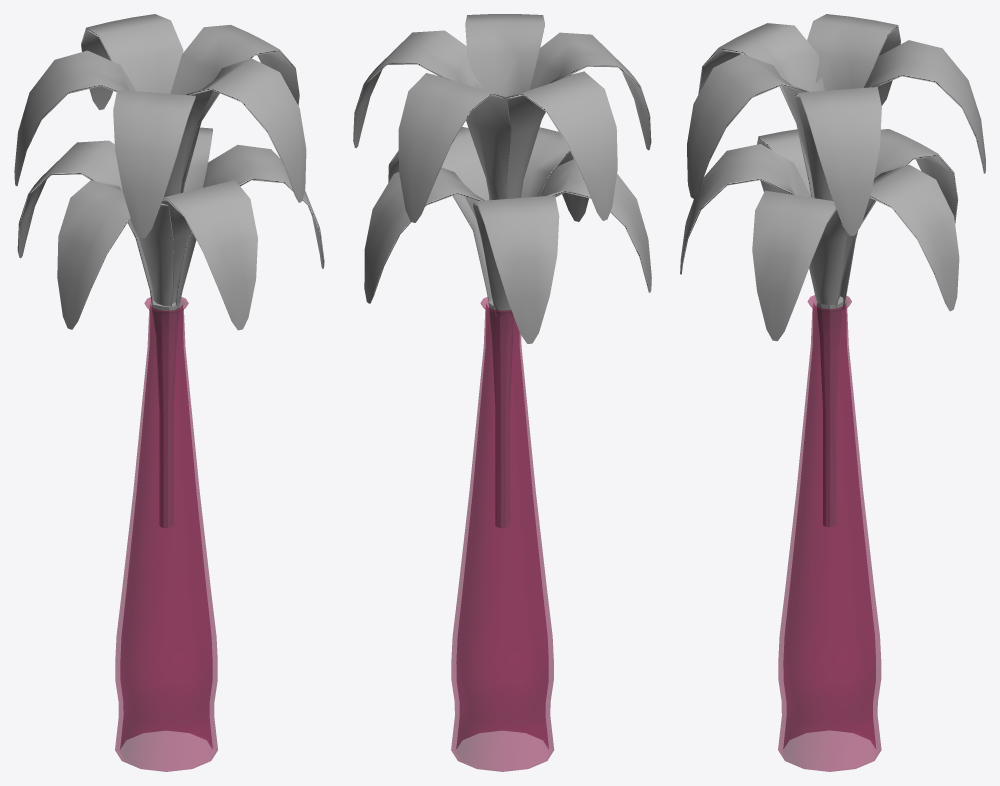
File: JarronActorSecundario.fbx
3 views of the same model, side by side, from view 1: azimuth 30°, elevation 25°; view 2: azimuth 150°, elevation 25°; view 3: azimuth 270°, elevation 25° (orthographic).
Visible parts, largest first — view 1: Jarron, pCube5, polySurface5, pCube2, polySurface2, polySurface4, polySurface3, polySurface6, pCylinder1, pCube3, pCube6, pCube4; view 2: Jarron, polySurface4, polySurface6, pCube6, polySurface2, pCube4, polySurface3, polySurface5, pCylinder1, pCube5, pCube3, pCube2; view 3: Jarron, pCube3, polySurface3, polySurface2, pCube4, polySurface6, polySurface5, polySurface4, pCube2, pCylinder1, pCube6, pCube5.
Part boxes in pixels (bbox=[...]): Jarron: bbox=[115, 297, 217, 771]; pCube5: bbox=[57, 180, 174, 329]; polySurface5: bbox=[113, 90, 195, 238]; pCube2: bbox=[161, 180, 257, 330]; polySurface2: bbox=[180, 58, 306, 202]; polySurface4: bbox=[81, 14, 183, 109]; polySurface3: bbox=[170, 24, 299, 192]; polySurface6: bbox=[14, 50, 135, 186]; pCylinder1: bbox=[152, 300, 180, 528]; pCube3: bbox=[175, 144, 324, 306]; pCube6: bbox=[17, 140, 153, 312]; pCube4: bbox=[183, 127, 212, 192]; Jarron: bbox=[451, 297, 554, 771]; polySurface4: bbox=[398, 73, 511, 222]; polySurface6: bbox=[506, 71, 617, 220]; pCube6: bbox=[473, 195, 559, 343]; polySurface2: bbox=[465, 14, 544, 96]; pCube4: bbox=[364, 167, 484, 303]; polySurface3: bbox=[353, 30, 482, 148]; polySurface5: bbox=[530, 32, 651, 150]; pCylinder1: bbox=[488, 299, 514, 528]; pCube5: bbox=[540, 159, 651, 292]; pCube3: bbox=[388, 127, 492, 301]; pCube2: bbox=[489, 127, 588, 221]; Jarron: bbox=[778, 295, 881, 771]; pCube3: bbox=[752, 190, 847, 341]; polySurface3: bbox=[795, 87, 881, 235]; polySurface2: bbox=[687, 54, 814, 198]; pCube4: bbox=[838, 164, 959, 311]; polySurface6: bbox=[807, 14, 900, 105]; polySurface5: bbox=[698, 23, 824, 197]; polySurface4: bbox=[864, 40, 985, 173]; pCube2: bbox=[680, 144, 811, 274]; pCylinder1: bbox=[816, 296, 843, 527]; pCube6: bbox=[840, 129, 958, 308]; pCube5: bbox=[757, 129, 810, 195].
Bounding box in the file's own units: 62.22 × 155 × 61.77.
